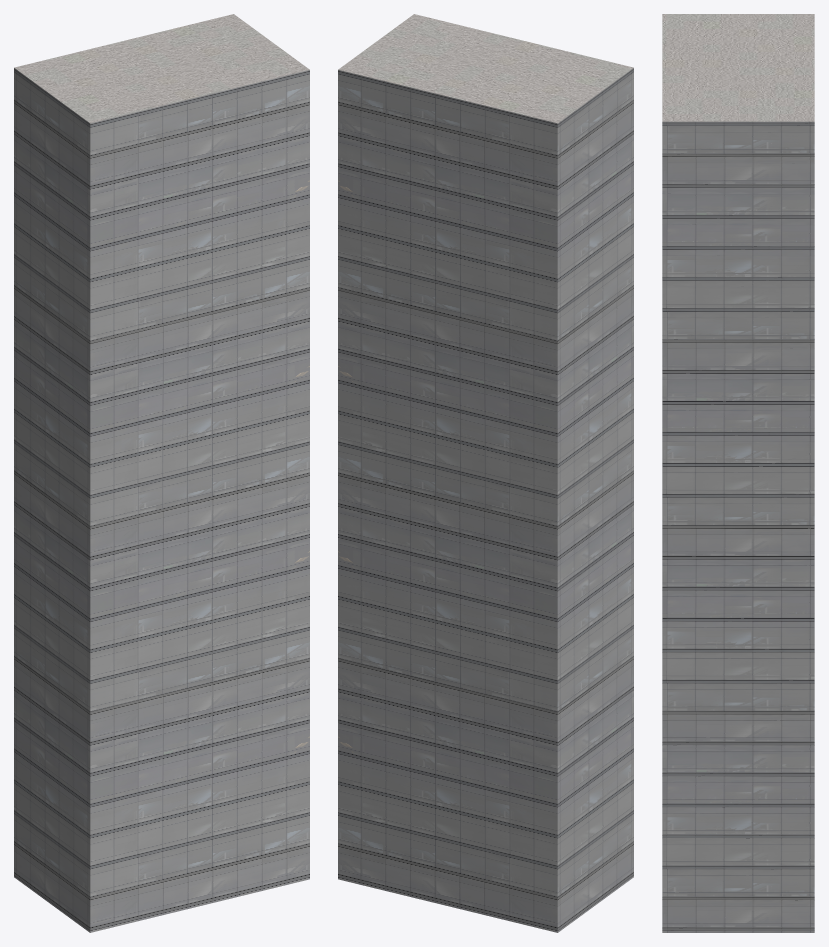
File: building_037.glb
3 renders of one model, left to right at view 1: azimuth 30°, elevation 25°; view 2: azimuth 150°, elevation 25°; view 3: azimuth 270°, elevation 25°, orthographic.
Visible parts, largest first — view 1: building_037; view 2: building_037; view 3: building_037.
Boxes of the visible parts, box(x1,y1,x2,y2) form: building_037: box(14, 14, 309, 932); building_037: box(338, 14, 633, 932); building_037: box(662, 14, 814, 932).
Size of the model in its own units: 1500 by 5280 by 900.
2 materials, 2 textured.
